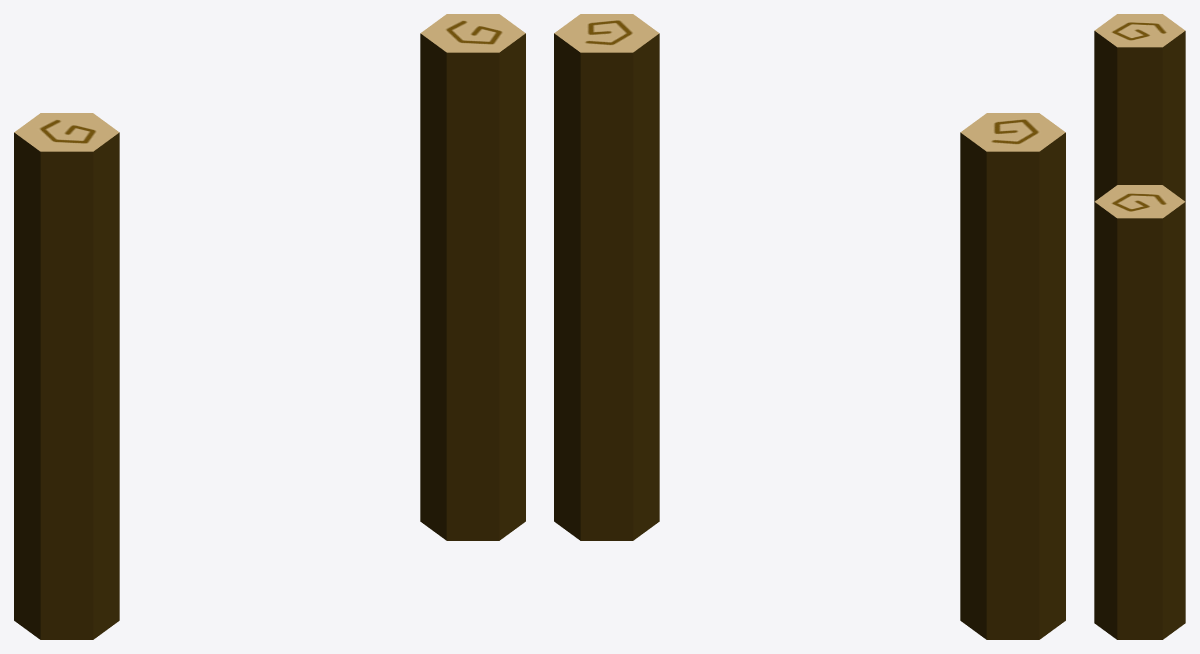
Rendered from Bridge_Post.fbx.
3 renders of one model, left to right at view 1: azimuth 30°, elevation 25°; view 2: azimuth 150°, elevation 25°; view 3: azimuth 270°, elevation 25°, orthographic. The views are drawn at different scales.
Visible parts, largest first — view 1: Bridge_Post; view 2: Bridge_Post; view 3: Bridge_Post.
Boxes of the visible parts, bbox=[...] form: Bridge_Post: bbox=[14, 14, 525, 639]; Bridge_Post: bbox=[554, 14, 1065, 639]; Bridge_Post: bbox=[1094, 14, 1185, 639].
Size of the model in its own units: 3.58 by 3.45 by 0.6743.
